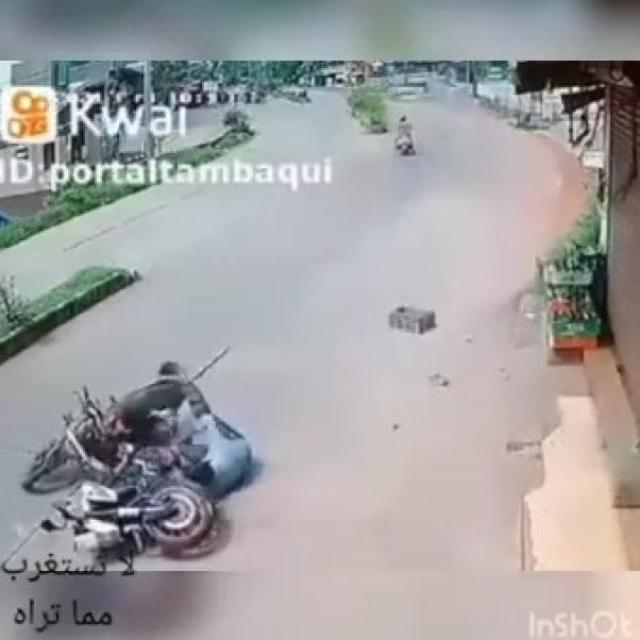accident: (26, 350, 254, 552)
